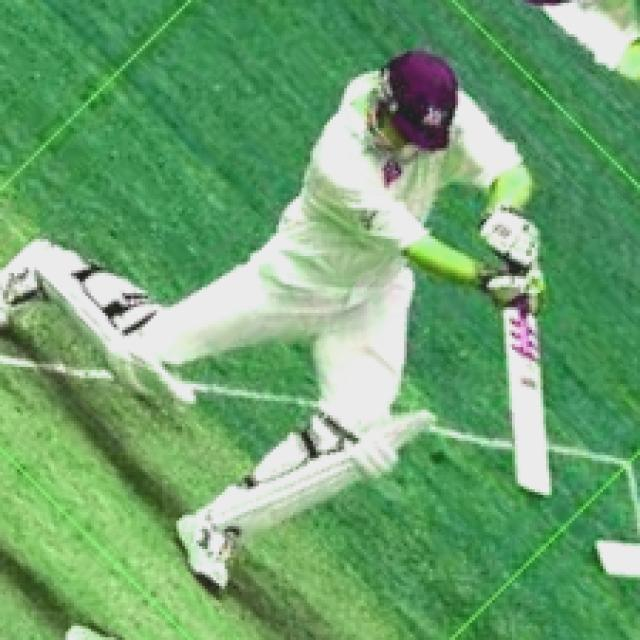toe: (502, 432, 561, 507)
